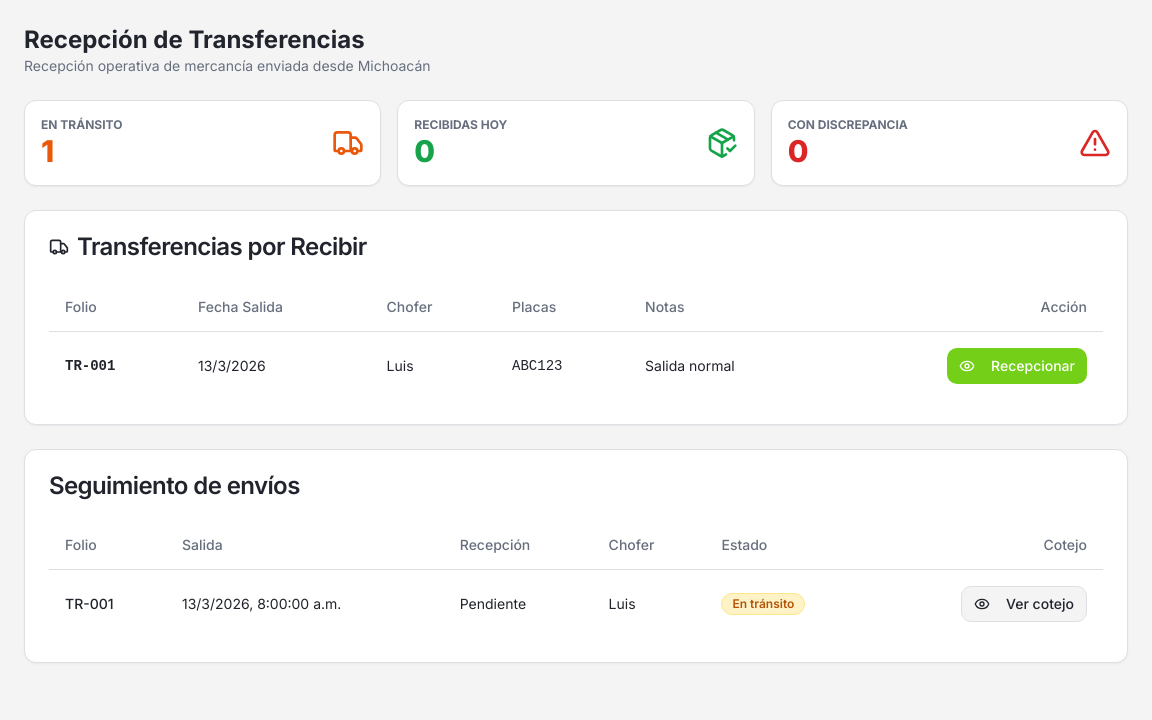
it: RecepcionesTab flow › inicializa la recepcion con el precio de venta de la transferencia
The width and height of the screenshot is (1152, 720).
Click the button "Recepcionar". click: click(1017, 366)
box: [947,348,1087,384]
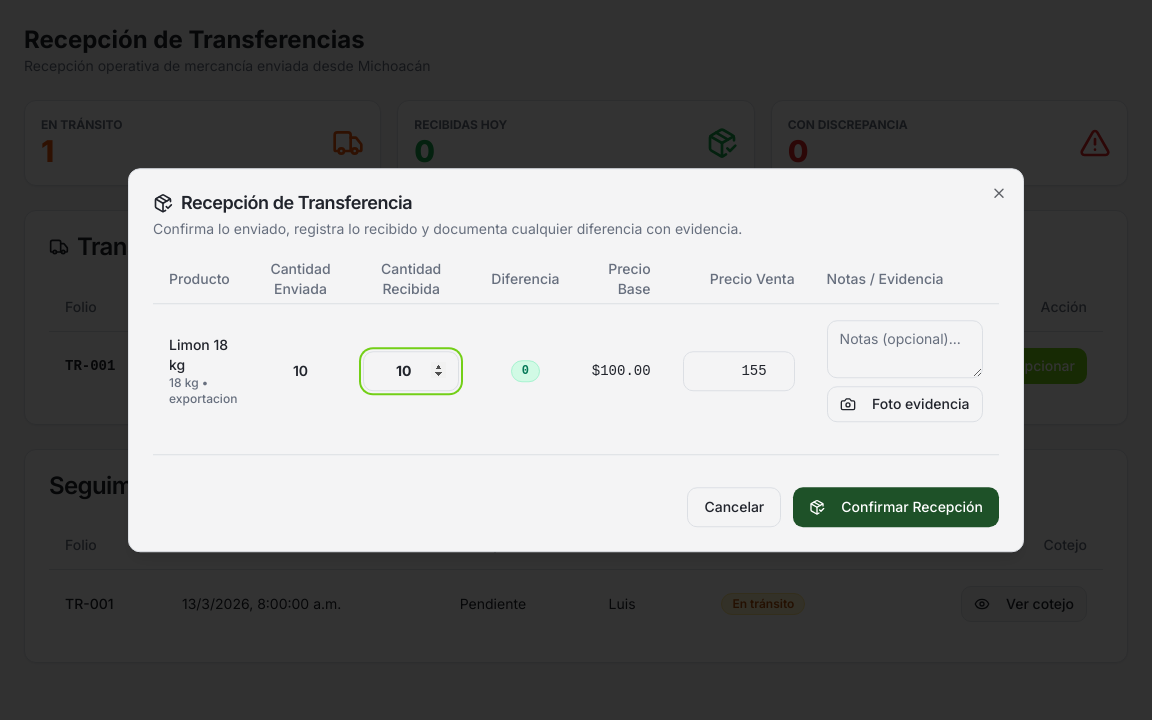
Check: the heading "Recepción de Transferencias" is shown, box [24,25,365,54]
Check: the 2nd number field showing "155" is shown, box [683,351,795,391]
